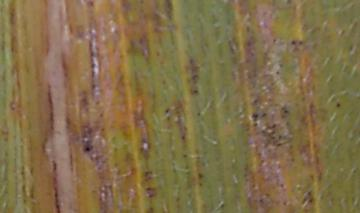tarspot: (185, 56, 200, 85), (82, 144, 92, 153), (191, 88, 201, 95), (270, 36, 278, 44), (334, 101, 341, 109), (260, 111, 267, 119), (297, 39, 304, 47), (307, 197, 314, 205), (278, 181, 285, 189), (289, 39, 296, 46), (251, 122, 259, 128), (271, 122, 277, 130), (196, 172, 204, 178), (195, 111, 201, 119), (182, 152, 188, 159), (275, 142, 282, 148), (274, 69, 280, 76), (284, 1, 292, 6), (282, 108, 288, 114), (251, 113, 257, 119), (281, 200, 287, 206), (257, 198, 263, 204), (277, 133, 282, 140), (180, 134, 185, 140), (164, 108, 169, 113)
